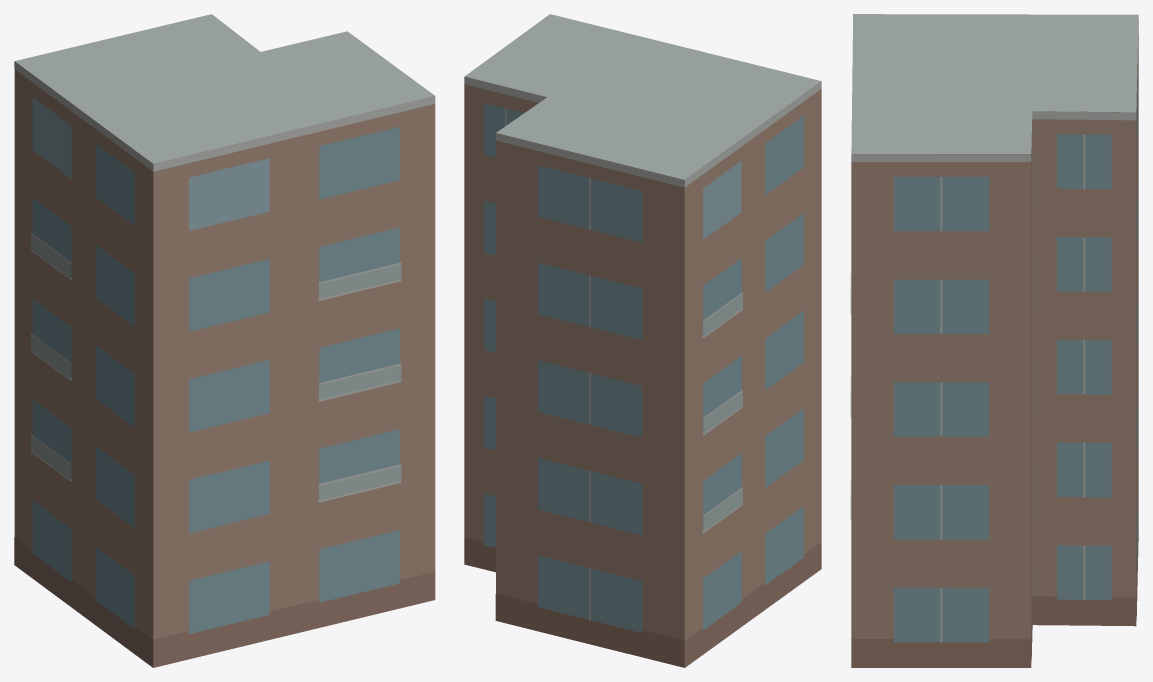
The model's file is survey-upis-32637301.glb.
The picture shows the model from 3 angles, left to right: view 1: azimuth 30°, elevation 25°; view 2: azimuth 150°, elevation 25°; view 3: azimuth 270°, elevation 25°; orthographic projection. The views are drawn at different scales.
Parts seen in each view (by area): view 1: survey-upis-32637301.tmp; view 2: survey-upis-32637301.tmp; view 3: survey-upis-32637301.tmp.
Part boxes in pixels (x1,y1,x2,y2): survey-upis-32637301.tmp: [14, 14, 435, 667]; survey-upis-32637301.tmp: [464, 14, 821, 667]; survey-upis-32637301.tmp: [850, 14, 1138, 667].
Bounding box in the file's own units: 9.14 × 15.6 × 7.94.
